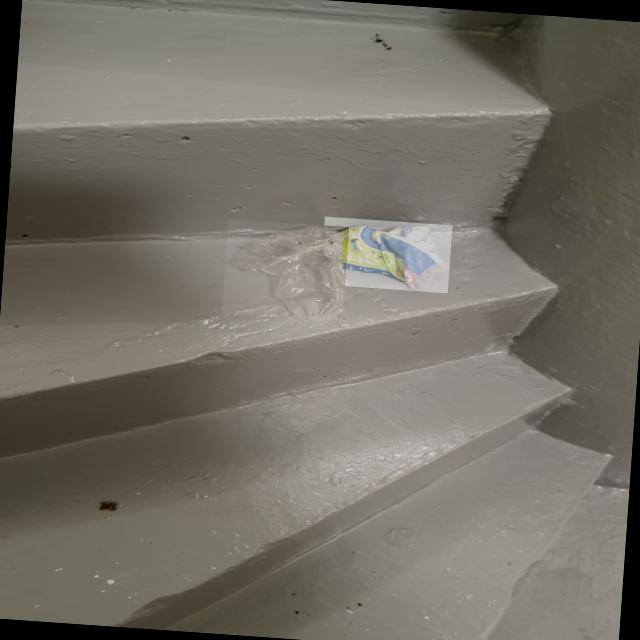Other plastic: (319, 216, 452, 293)
Plastic film: (221, 218, 349, 322)
